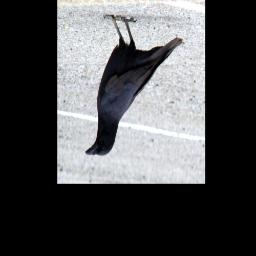Crow: (85, 14, 183, 157)
